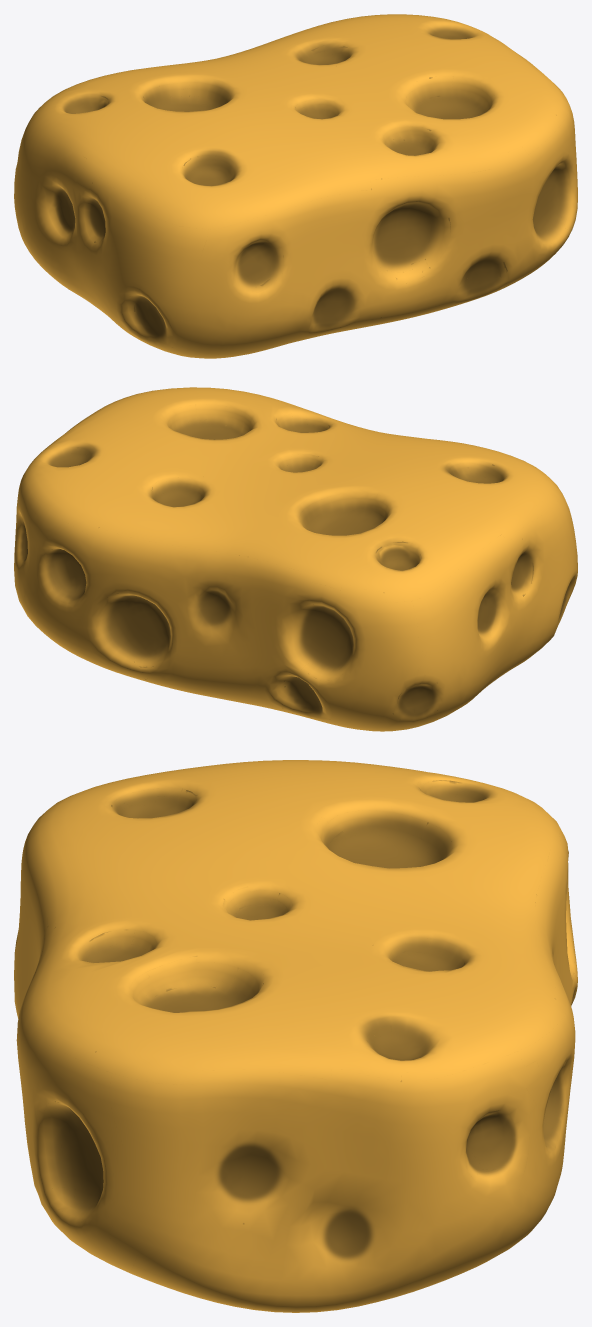
Rendered from sponge.fbx.
3 views of the same model, one above another, from view 1: azimuth 30°, elevation 25°; view 2: azimuth 150°, elevation 25°; view 3: azimuth 270°, elevation 25° (orthographic). The views are drawn at different scales.
Parts seen in each view (by area): view 1: sponge; view 2: sponge; view 3: sponge.
Part boxes in pixels (x1,y1,x2,y2): sponge: [14, 14, 577, 358]; sponge: [14, 387, 577, 731]; sponge: [14, 760, 577, 1312].
Bounding box in the file's own units: 104 × 42.03 × 75.73.
Materials: 1 (1 with a texture image).
